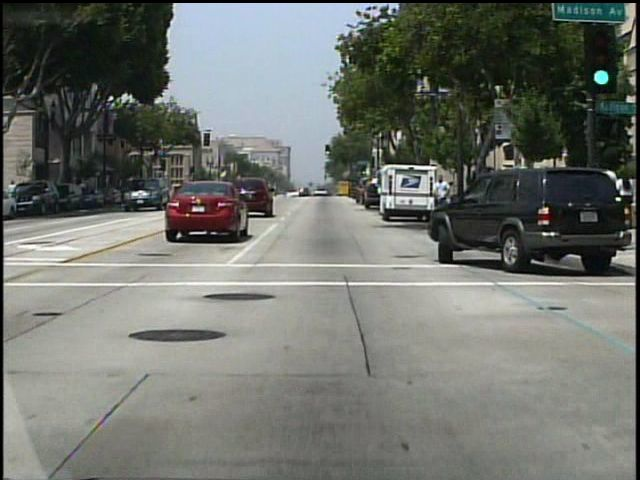person: (429, 172, 453, 225), (352, 179, 367, 209), (9, 179, 20, 207)
